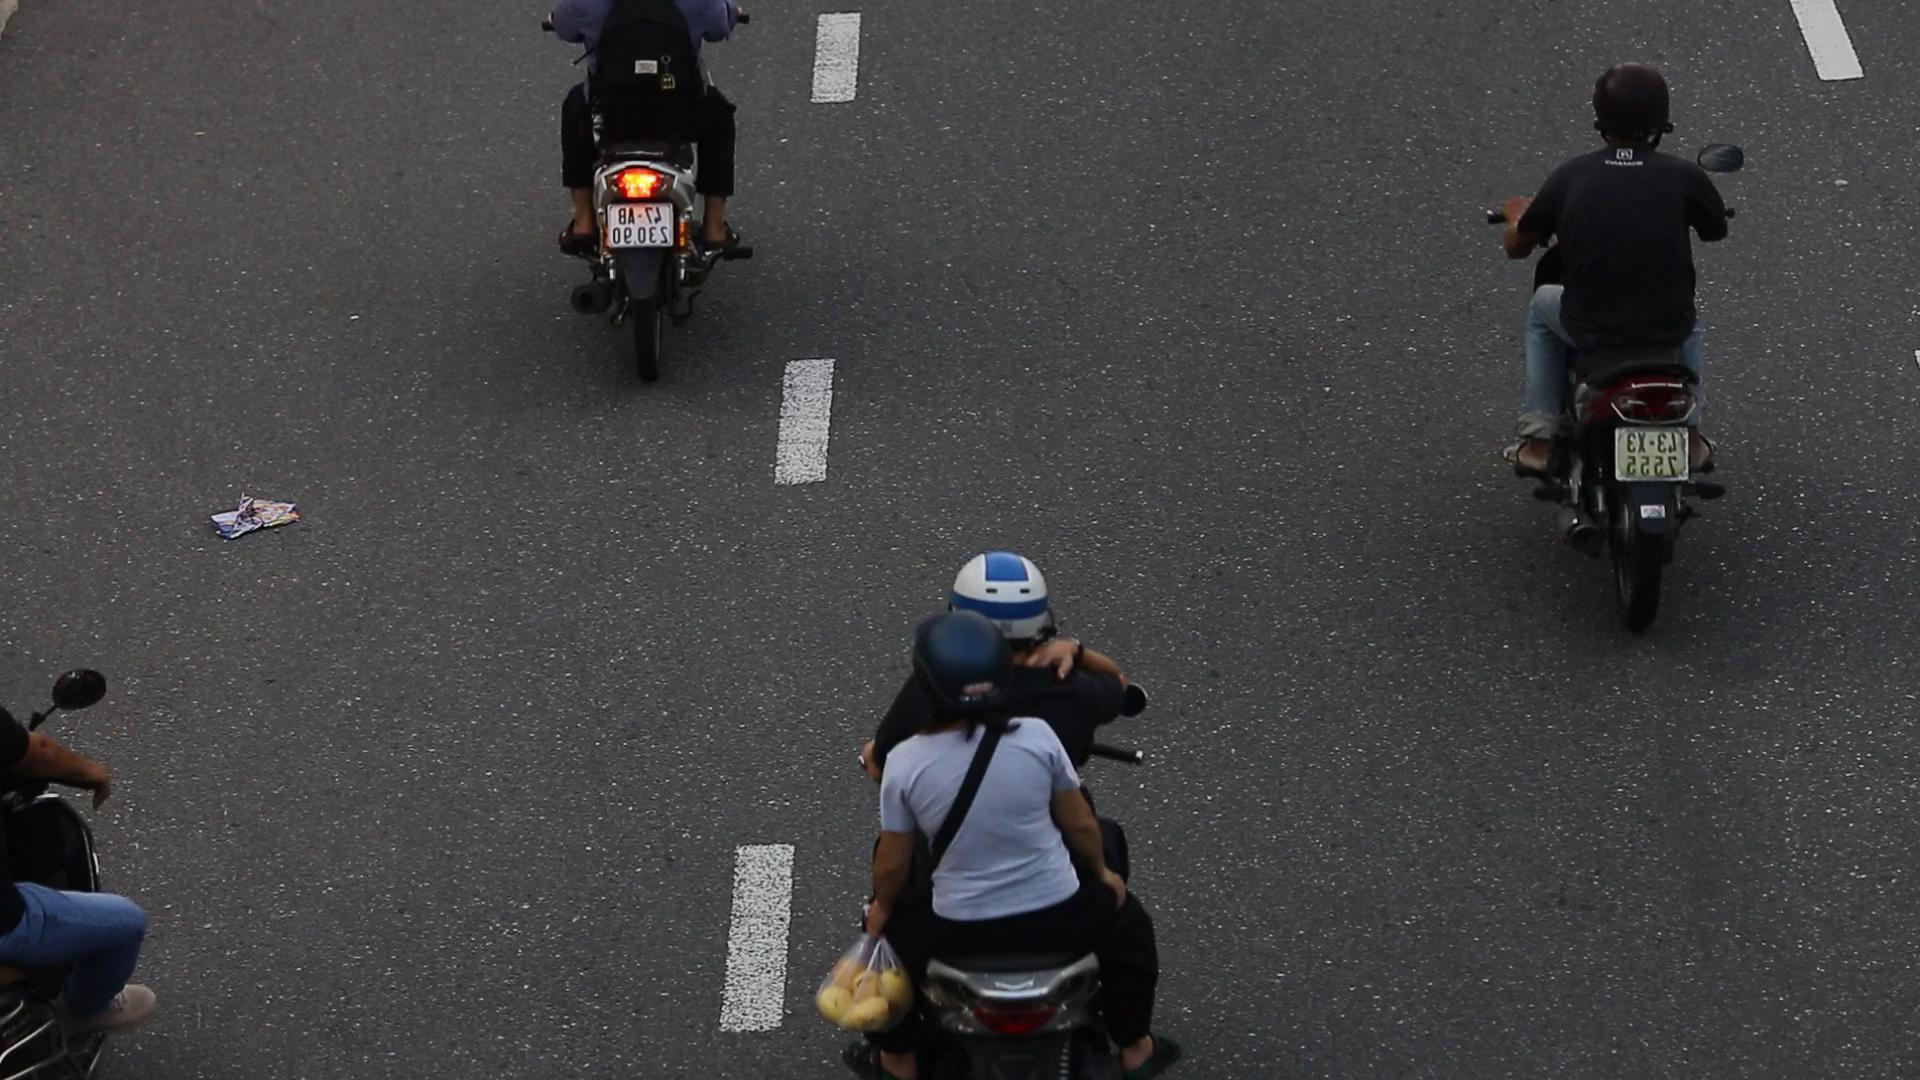motobike: (1502, 51, 1745, 637)
